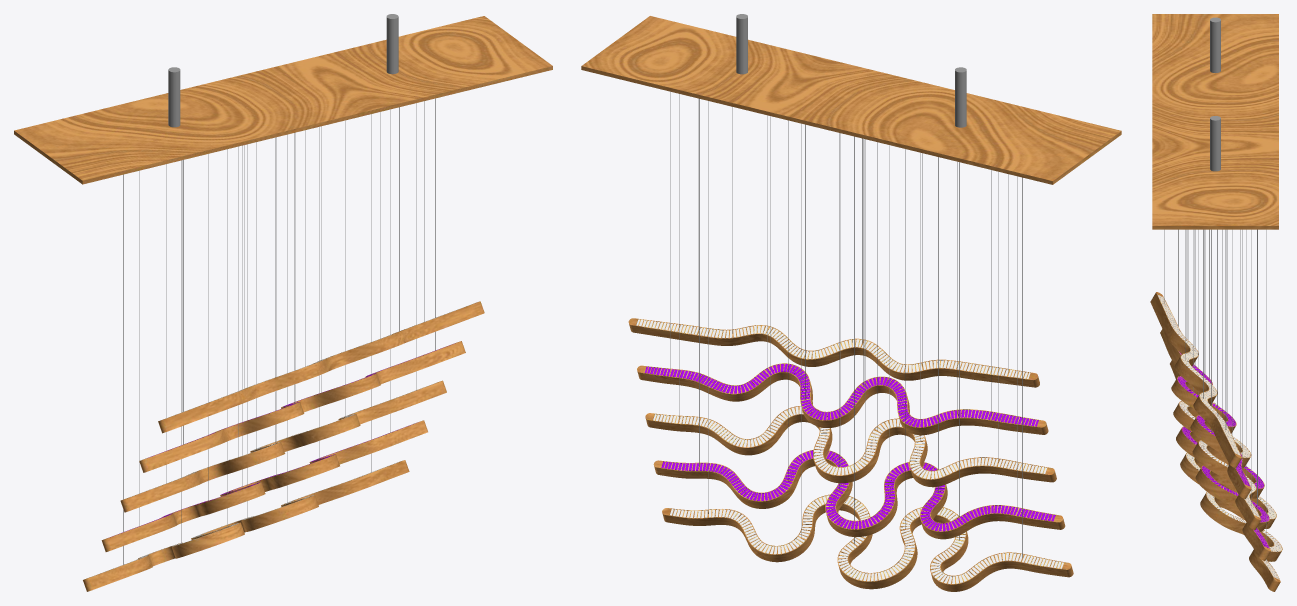
The model's file is aabijijiwan.glb.
3 views of the same model, side by side, from view 1: azimuth 30°, elevation 25°; view 2: azimuth 150°, elevation 25°; view 3: azimuth 270°, elevation 25° (orthographic). The views are drawn at different scales.
Visible parts, largest first — view 1: AR_Sculpture; view 2: AR_Sculpture; view 3: AR_Sculpture.
Part boxes in pixels (left/top/right/bottom): AR_Sculpture: left=14, top=14, right=552, bottom=591; AR_Sculpture: left=581, top=14, right=1121, bottom=591; AR_Sculpture: left=1150, top=14, right=1282, bottom=591.
Size of the model in its own units: 7.72 by 8.03 by 2.04.
4 materials, 1 textured.
